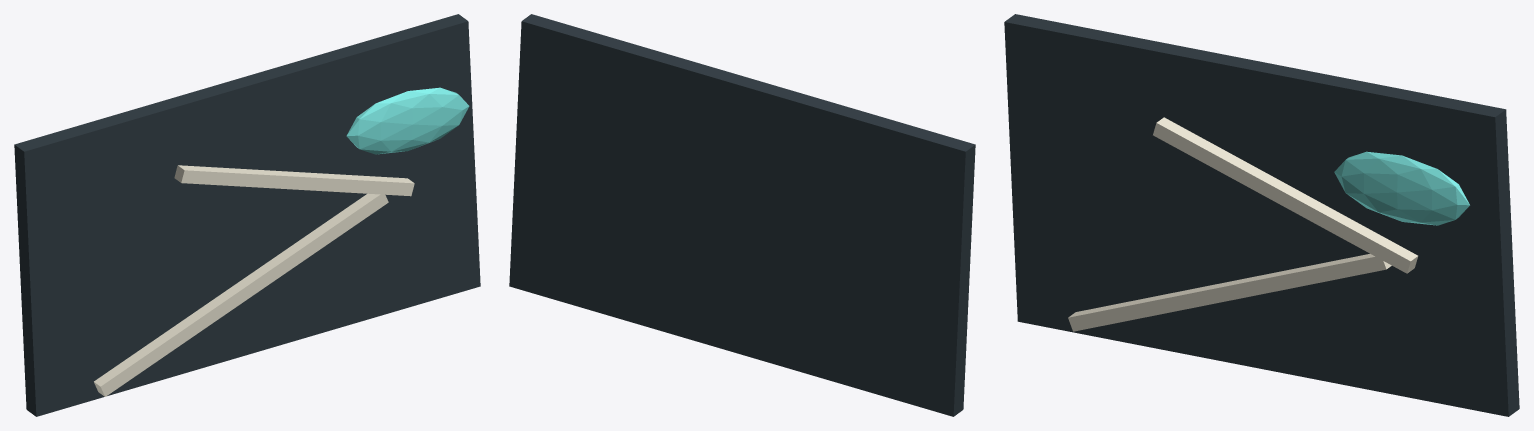
File: 01_weathering_wear_overlay_1.glb
3 views of the same model, side by side, from view 1: azimuth 30°, elevation 25°; view 2: azimuth 150°, elevation 25°; view 3: azimuth 330°, elevation 25° (orthographic). The views are drawn at different scales.
Parts seen in each view (by area): view 1: wear_plate, scratch_a, rust_or_moss_spot, scratch_b; view 2: wear_plate; view 3: wear_plate, rust_or_moss_spot, scratch_b, scratch_a.
Part boxes in pixels (x1=…): wear_plate: x1=14, y1=14, x2=480, y2=416; scratch_a: x1=94, y1=193, x2=388, y2=396; rust_or_moss_spot: x1=346, y1=87, x2=469, y2=154; scratch_b: x1=174, y1=165, x2=414, y2=196; wear_plate: x1=509, y1=14, x2=975, y2=416; wear_plate: x1=1004, y1=14, x2=1519, y2=416; rust_or_moss_spot: x1=1334, y1=151, x2=1469, y2=225; scratch_b: x1=1153, y1=117, x2=1418, y2=273; scratch_a: x1=1068, y1=254, x2=1391, y2=331.
Size of the model in its own units: 1.33 by 0.811 by 0.134.
